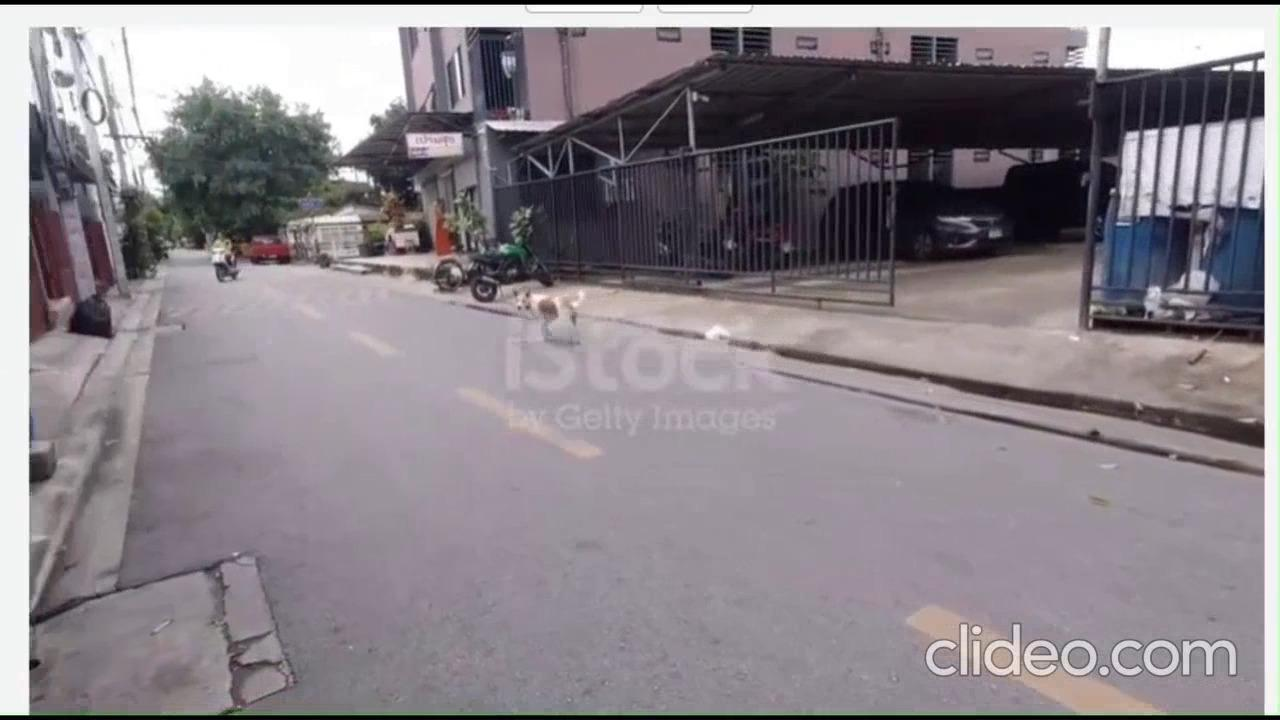dog: (501, 279, 584, 353)
